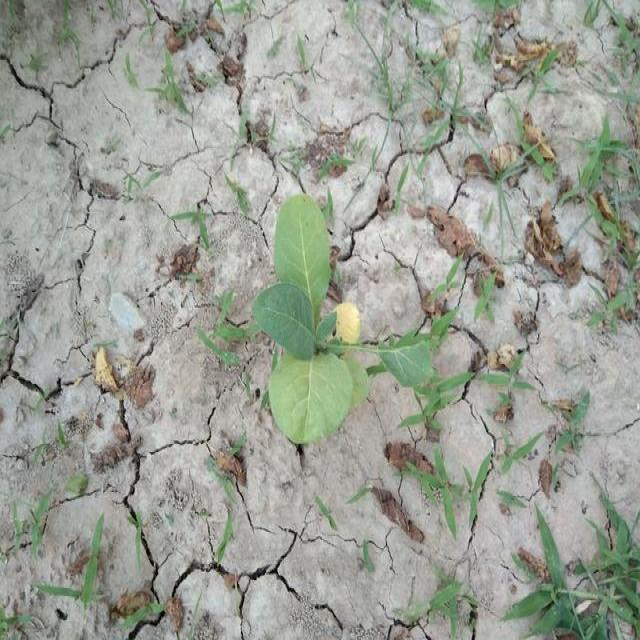crop: (257, 194, 443, 444)
